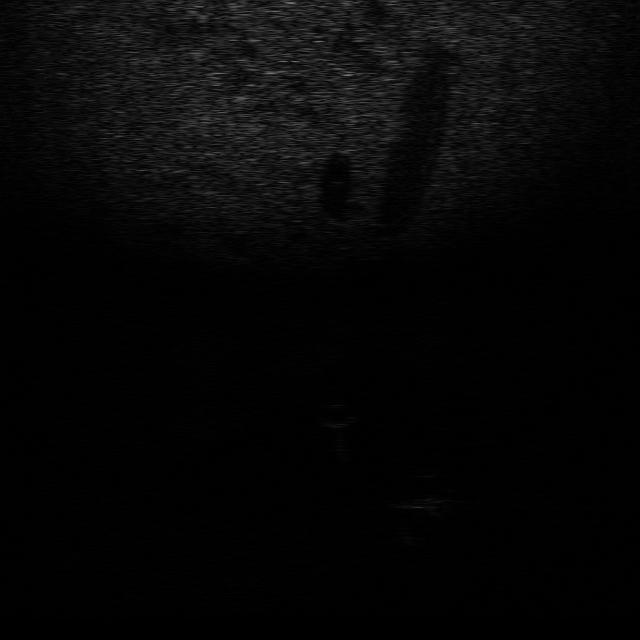ball: (311, 397, 359, 429)
tyre: (387, 469, 465, 515)
